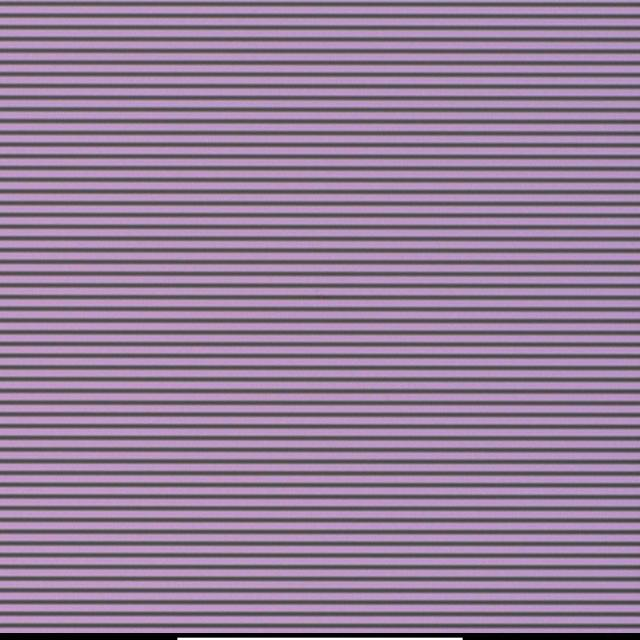03_intrusion: (318, 288, 332, 304)
